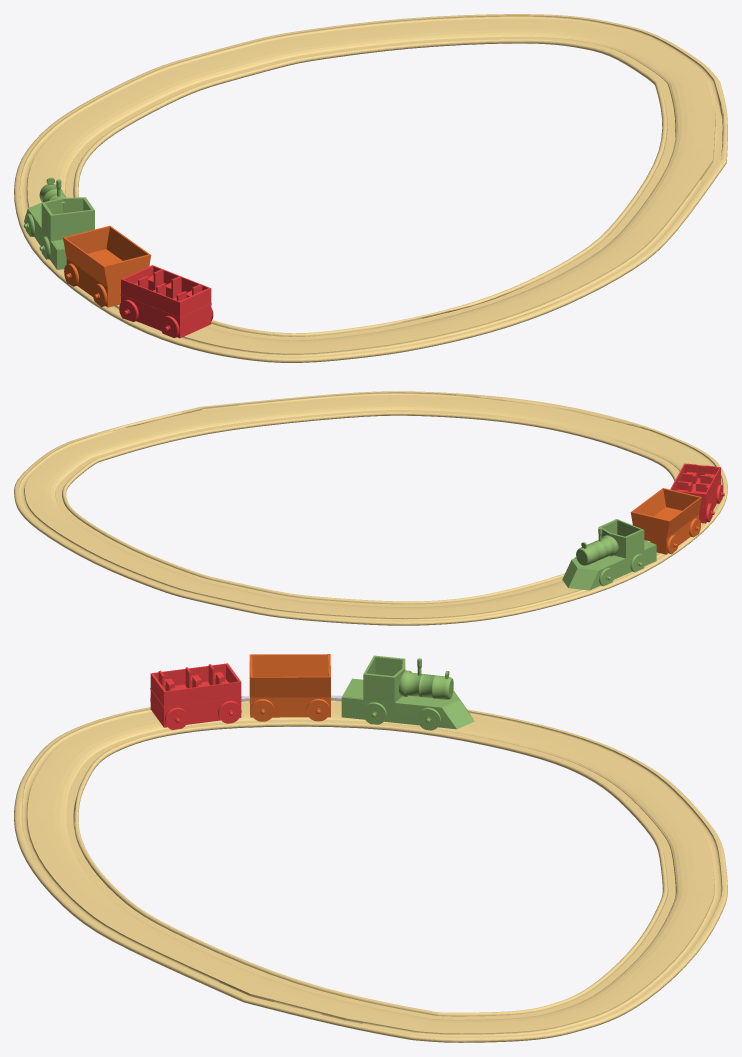
The model's file is trainV3.fbx.
3 views of the same model, one above another, from view 1: azimuth 30°, elevation 25°; view 2: azimuth 150°, elevation 25°; view 3: azimuth 270°, elevation 25° (orthographic). The views are drawn at different scales.
Visible parts, largest first — view 1: TRACK, trainv2.002, trainv2.001, trainv2; view 2: TRACK, trainv2, trainv2.001, trainv2.002; view 3: TRACK, trainv2, trainv2.001, trainv2.002.
Part boxes in pixels (x1,y1,x2,y2): TRACK: (14,14,727,362); trainv2.002: (119,265,213,338); trainv2.001: (63,225,151,307); trainv2: (23,177,94,269); TRACK: (14,391,727,625); trainv2: (562,519,656,590); trainv2.001: (630,488,701,554); trainv2.002: (670,463,724,523); TRACK: (14,700,727,1042); trainv2: (341,655,474,730); trainv2.001: (249,654,330,721); trainv2.002: (150,663,241,729).
Bounding box in the file's own units: 256 × 21.14 × 224.
